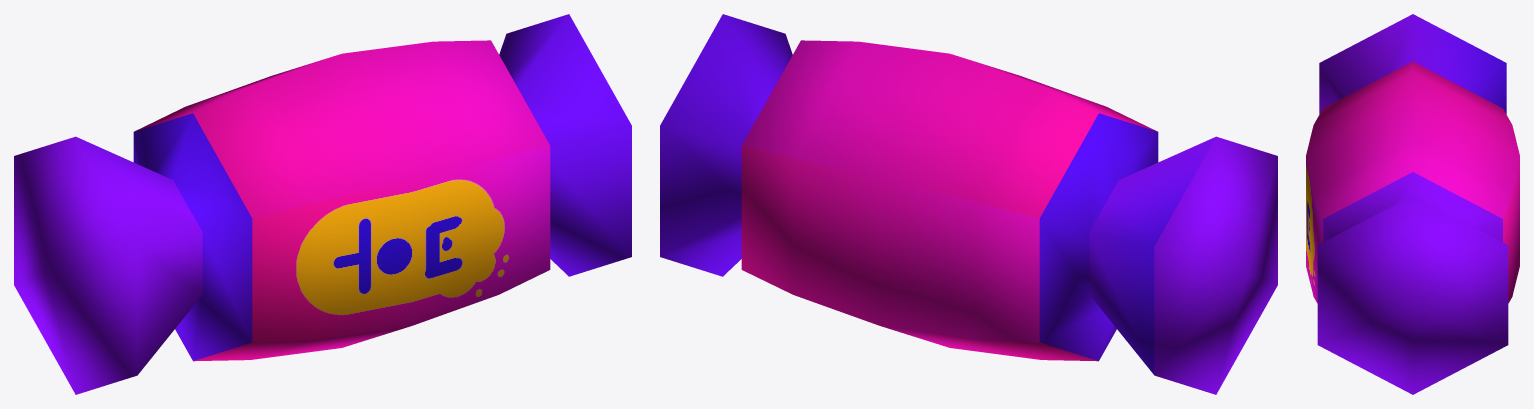
Rendered from r3-candy.fbx.
3 renders of one model, left to right at view 1: azimuth 30°, elevation 25°; view 2: azimuth 150°, elevation 25°; view 3: azimuth 270°, elevation 25°, orthographic. The views are drawn at different scales.
Visible parts, largest first — view 1: pCylinder1; view 2: pCylinder1; view 3: pCylinder1.
Boxes of the visible parts, x1,y1,x2,y2 form: pCylinder1: [14, 14, 631, 394]; pCylinder1: [660, 14, 1277, 394]; pCylinder1: [1306, 14, 1519, 394].
Size of the model in its own units: 56.37 by 28.53 by 24.7.
